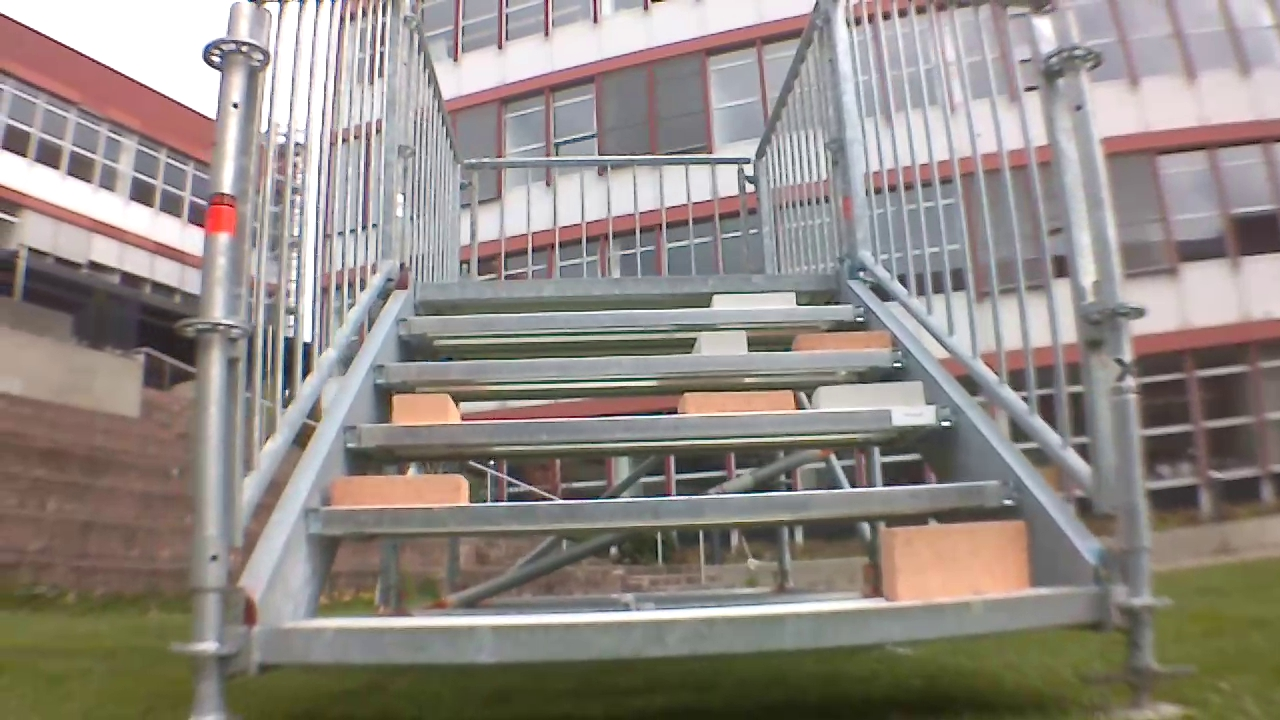brick: (881, 517, 1030, 604), (328, 469, 480, 505), (675, 385, 793, 418), (813, 381, 925, 415), (794, 325, 898, 350), (390, 392, 455, 423), (711, 293, 798, 312), (696, 330, 752, 355)
edge: (247, 587, 1123, 676), (307, 472, 1020, 534), (339, 401, 957, 448), (368, 346, 915, 385), (411, 268, 839, 300), (393, 299, 870, 320)
stairs: (199, 1, 1172, 709)
steps: (252, 274, 1116, 661)
